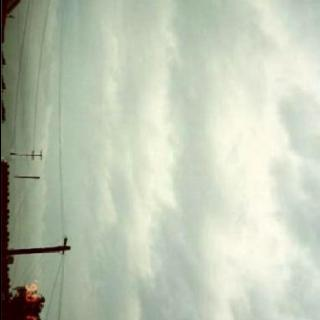Stratus: (26, 0, 320, 320)
